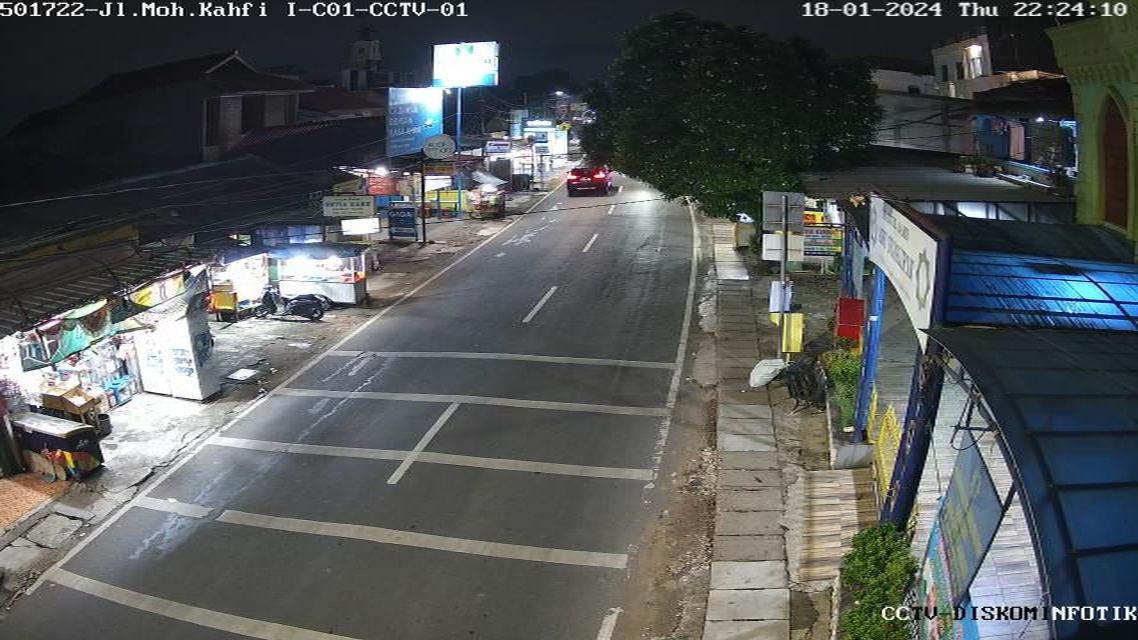Gerobak: (268, 244, 377, 310), (208, 251, 279, 325), (475, 184, 507, 216)
